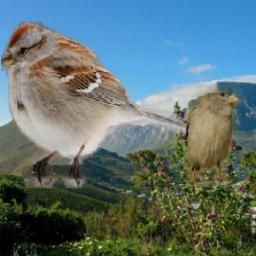Sparrow: (0, 22, 192, 188), (186, 82, 241, 188)
